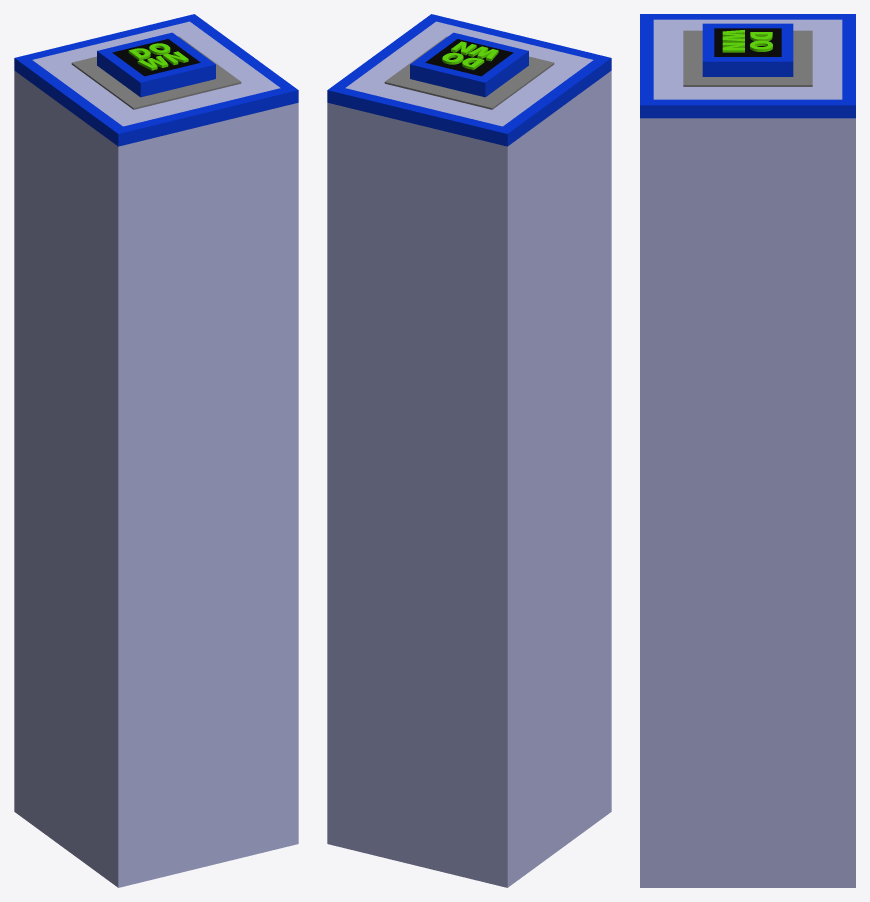
The model's file is blue_blue_down.fbx.
3 views of the same model, side by side, from view 1: azimuth 30°, elevation 25°; view 2: azimuth 150°, elevation 25°; view 3: azimuth 270°, elevation 25° (orthographic). The views are drawn at different scales.
Visible parts, largest first — view 1: blue_blue_down; view 2: blue_blue_down; view 3: blue_blue_down.
Part boxes in pixels (x1=…): blue_blue_down: x1=14, y1=14, x2=298, y2=887; blue_blue_down: x1=327, y1=14, x2=611, y2=887; blue_blue_down: x1=640, y1=14, x2=855, y2=887.
Size of the model in its own units: 1 by 4.1 by 1.
